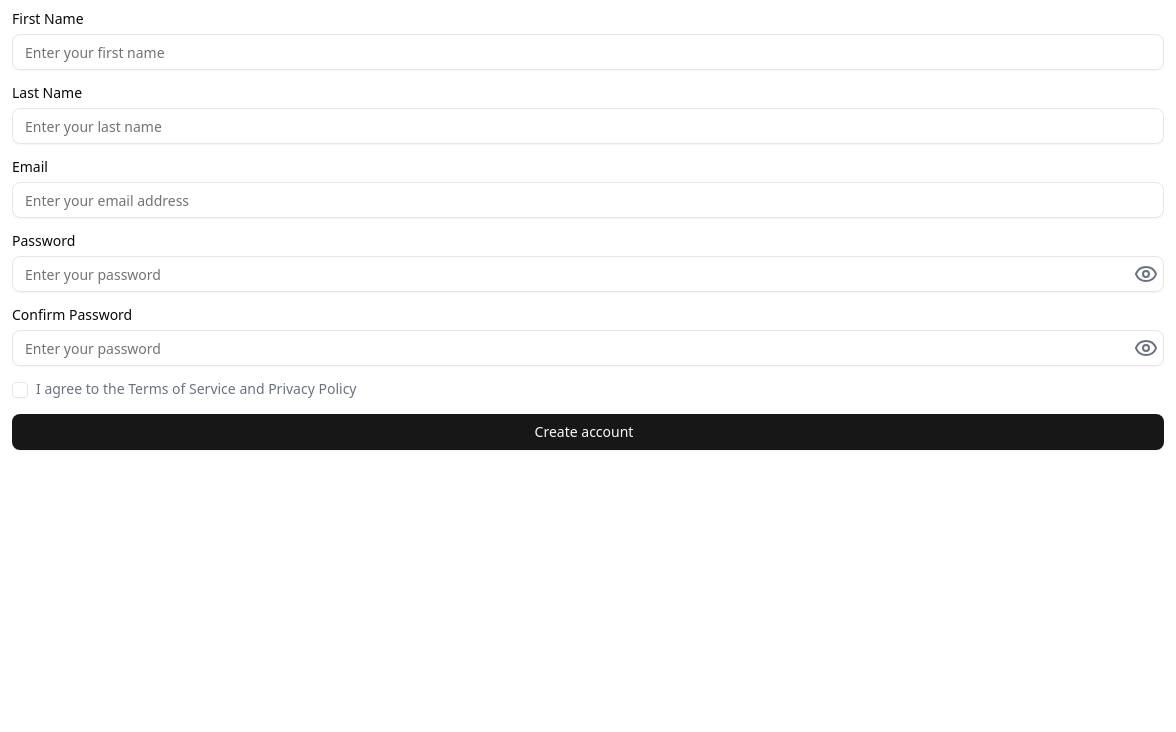
Signup Form component for FAILURE response › should display error message when register fails
Type "Jo-hn 'First" into the field with test id "field-firstname".
click(588, 52); type("Jo-hn 'First")  # box [12,34,1164,70]
Type "Do-e 'Last" into the field with test id "field-lastname".
click(588, 126); type("Do-e 'Last")  # box [12,108,1164,144]
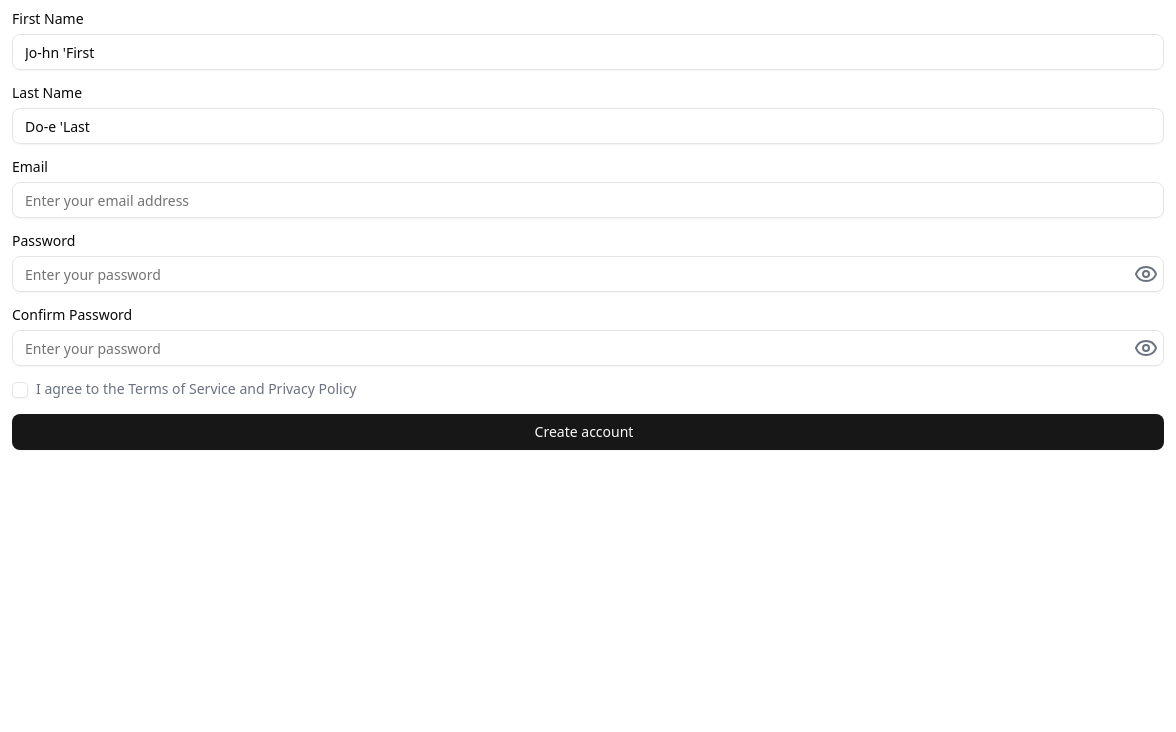
Type "johndoe@test.com" into the field with test id "field-email".
click(588, 200); type("johndoe@test.com")  # box [12,182,1164,218]
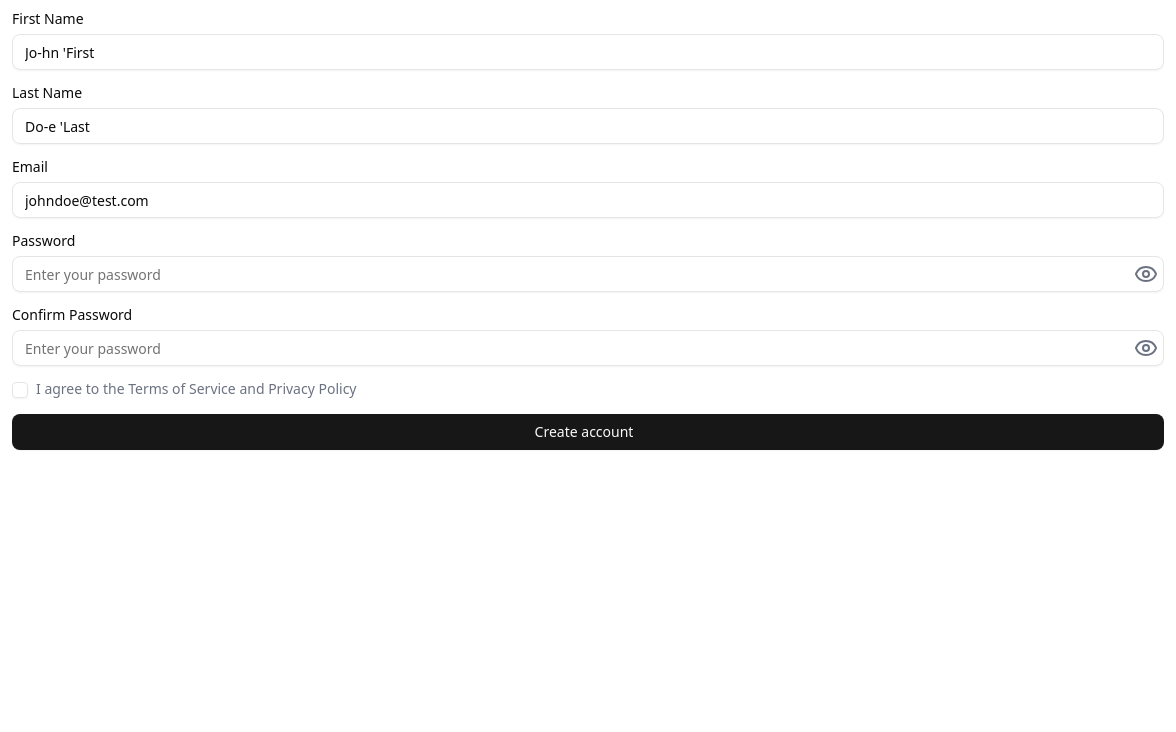
Type "Test@001" into the password field with test id "field-password".
click(588, 274); type("Test@001")  # box [12,256,1164,292]
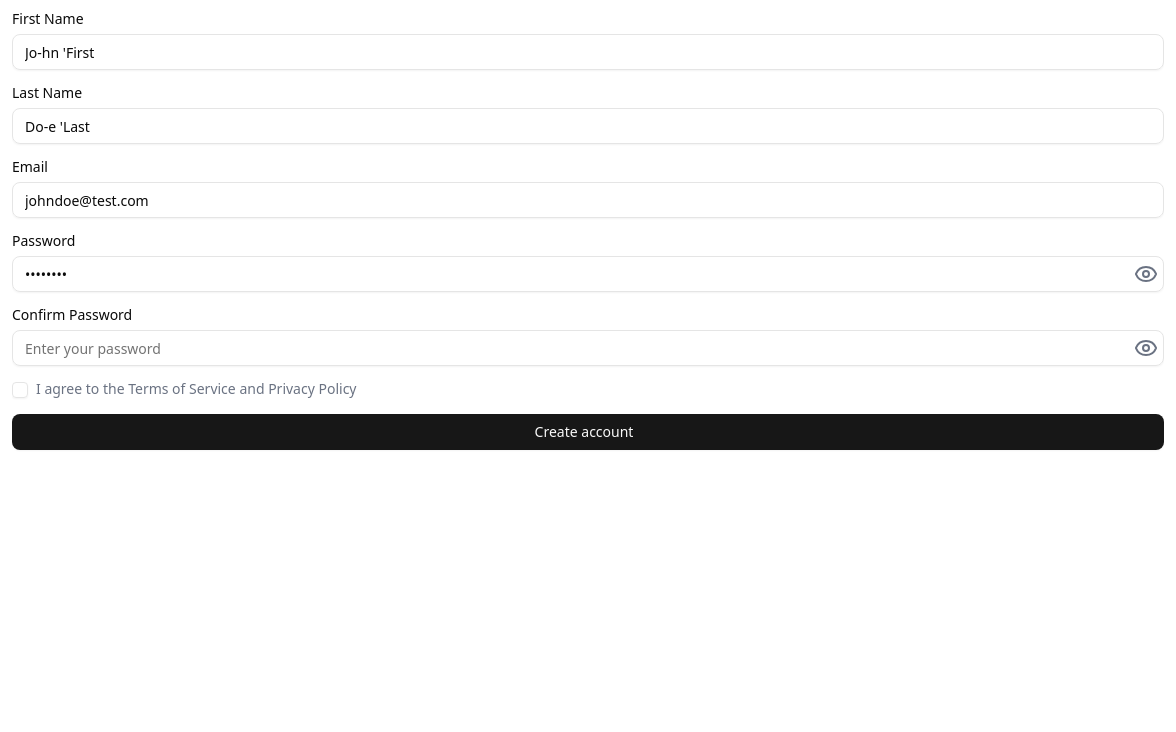
Type "Test@001" into the password field with test id "field-confirmpassword".
click(588, 348); type("Test@001")  # box [12,330,1164,366]
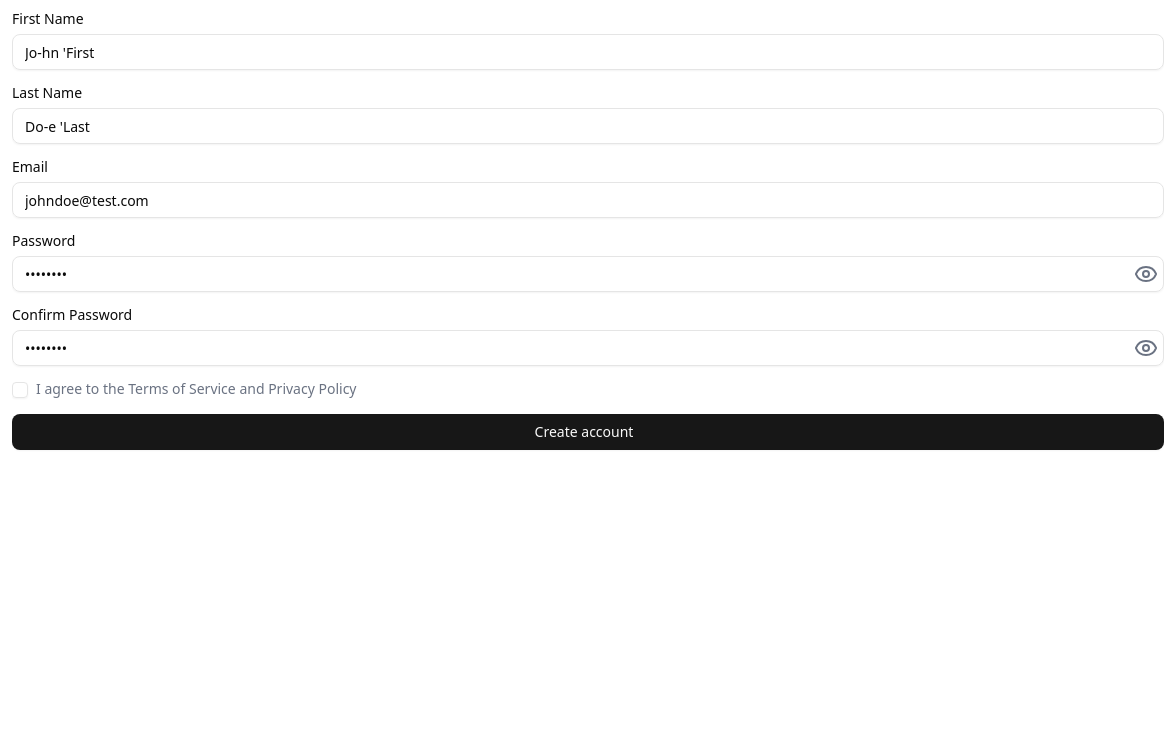
Click the checkbox with test id "field-tnc".
click(20, 390)  # box [12,382,28,398]
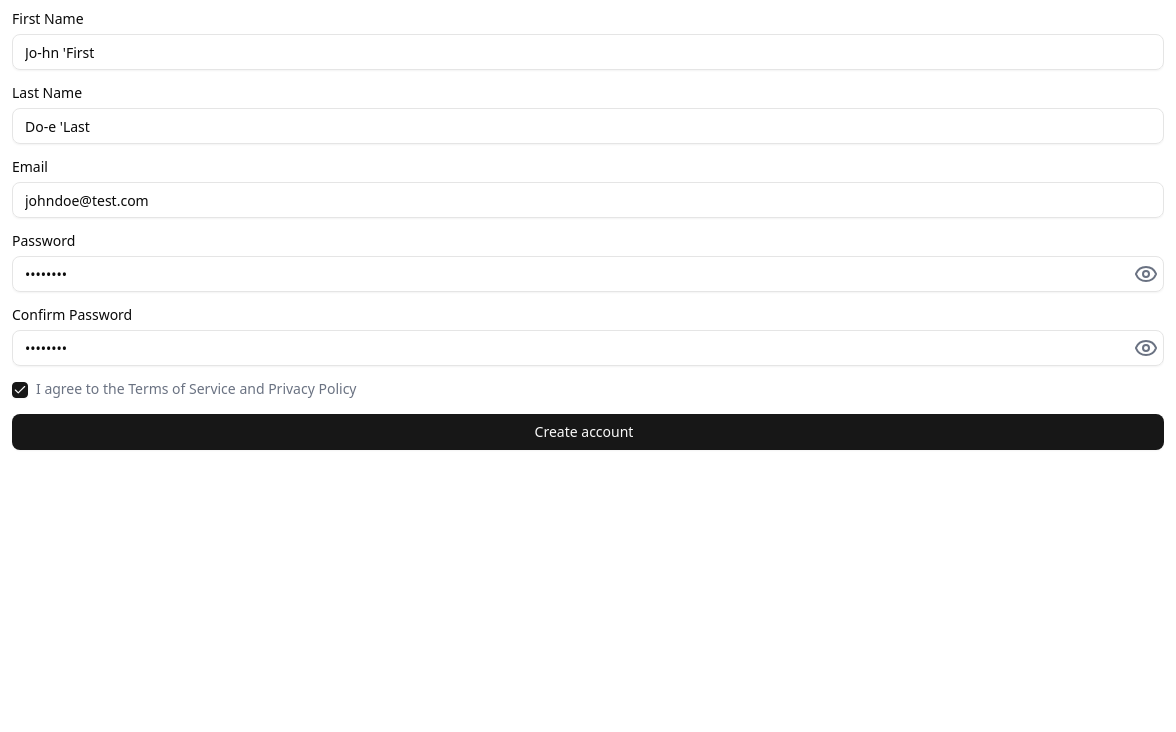
Click the button with test id "button-submit".
click(588, 432)  # box [12,414,1164,450]
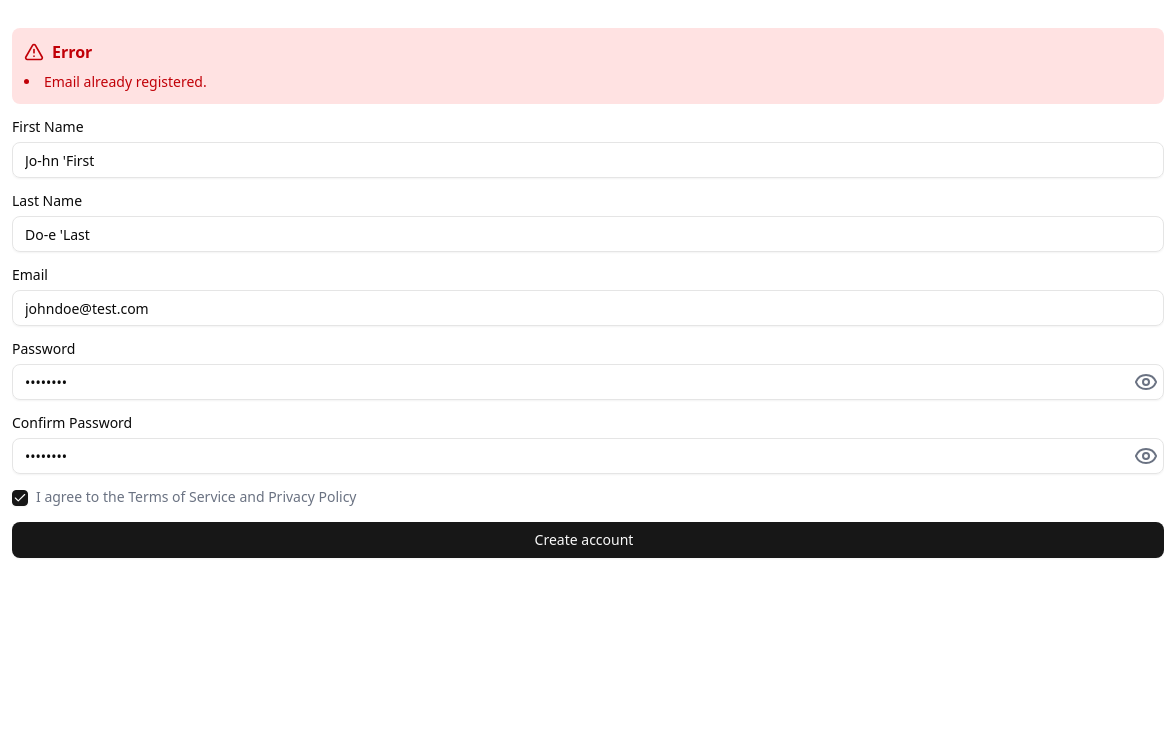
Expected: the element with test id "sign-up-form-errors" is shown, [12,28,1164,104]
